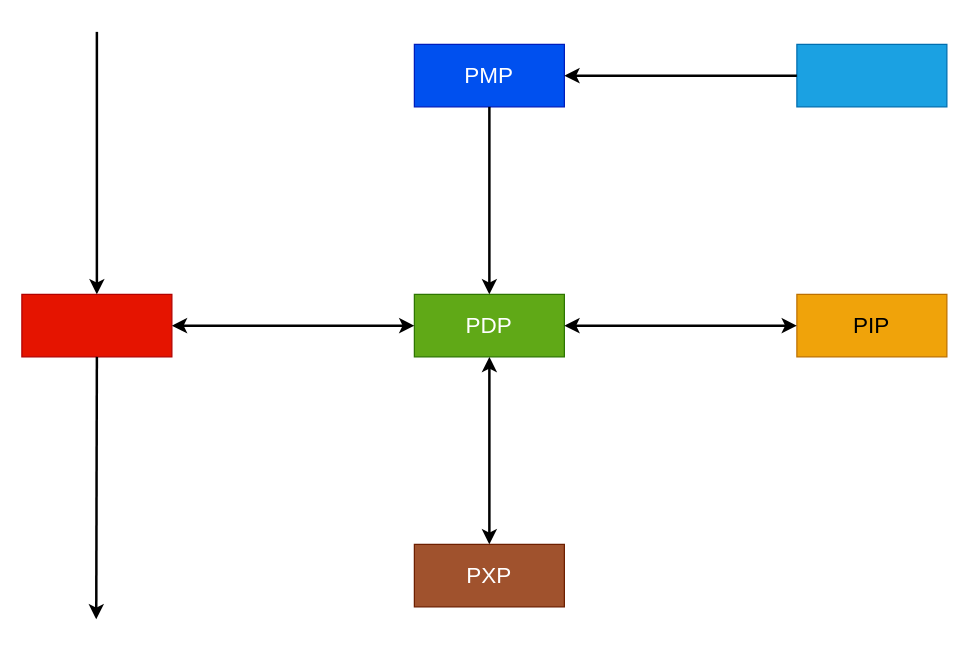
This 969x651 diagram has some shape labels left out. The centre of each missing label's shape, as x and y in pixels:
"PAP" belongs at point (871, 75).
"PEP" belongs at point (96, 325).
